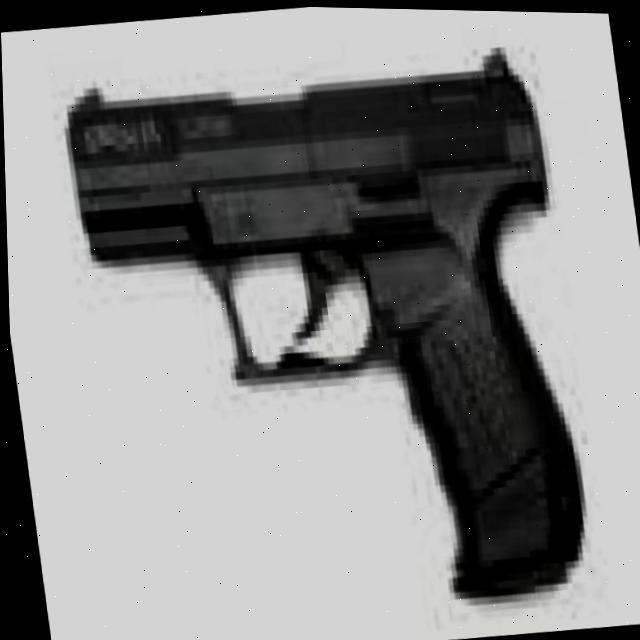gun: (61, 34, 598, 633)
